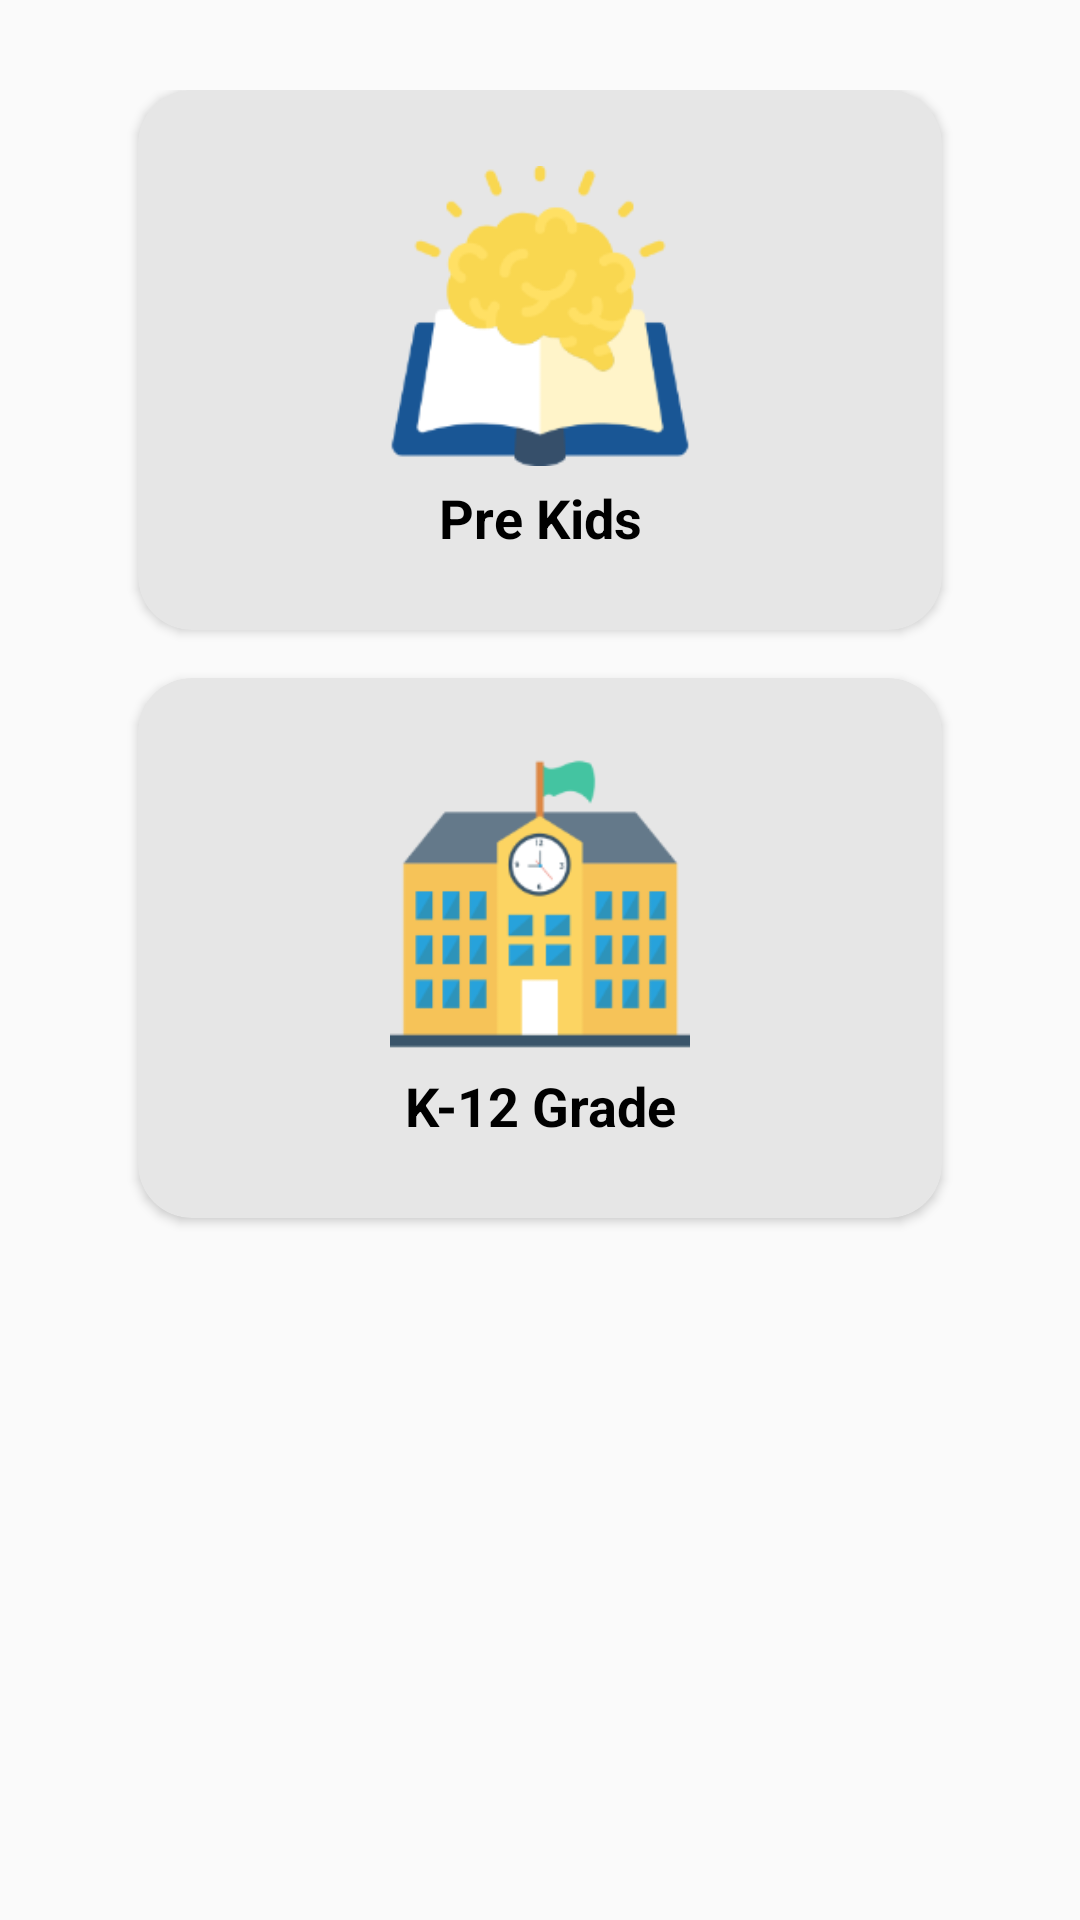

Screen size 1080x1920. Icon name, then its box in pixels as (x1, y1, x2, y2):
book: (391, 166, 689, 466)
school: (390, 760, 690, 1048)
